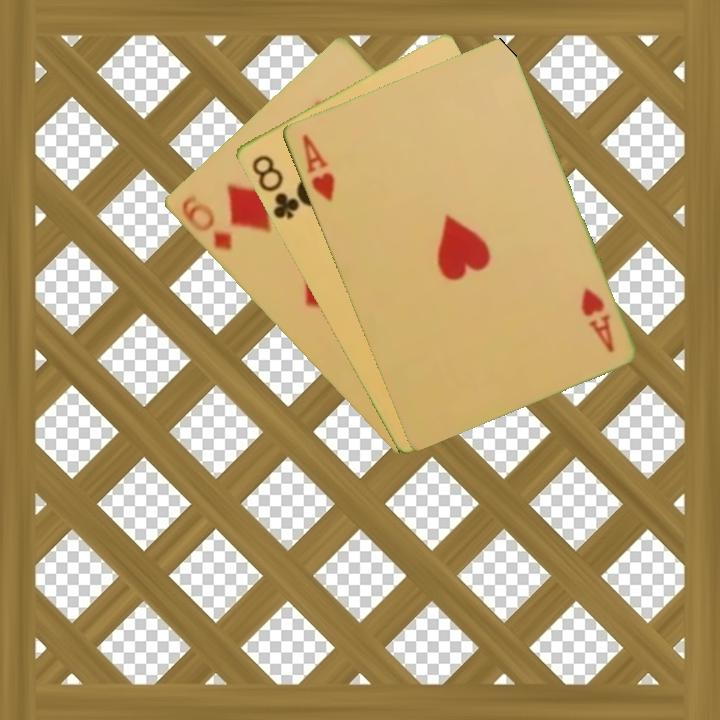6d: (177, 191, 235, 254)
8c: (247, 151, 305, 222)
Ah: (298, 130, 337, 205), (577, 283, 617, 355)
